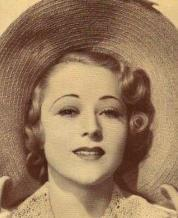face: (57, 93, 120, 162)
